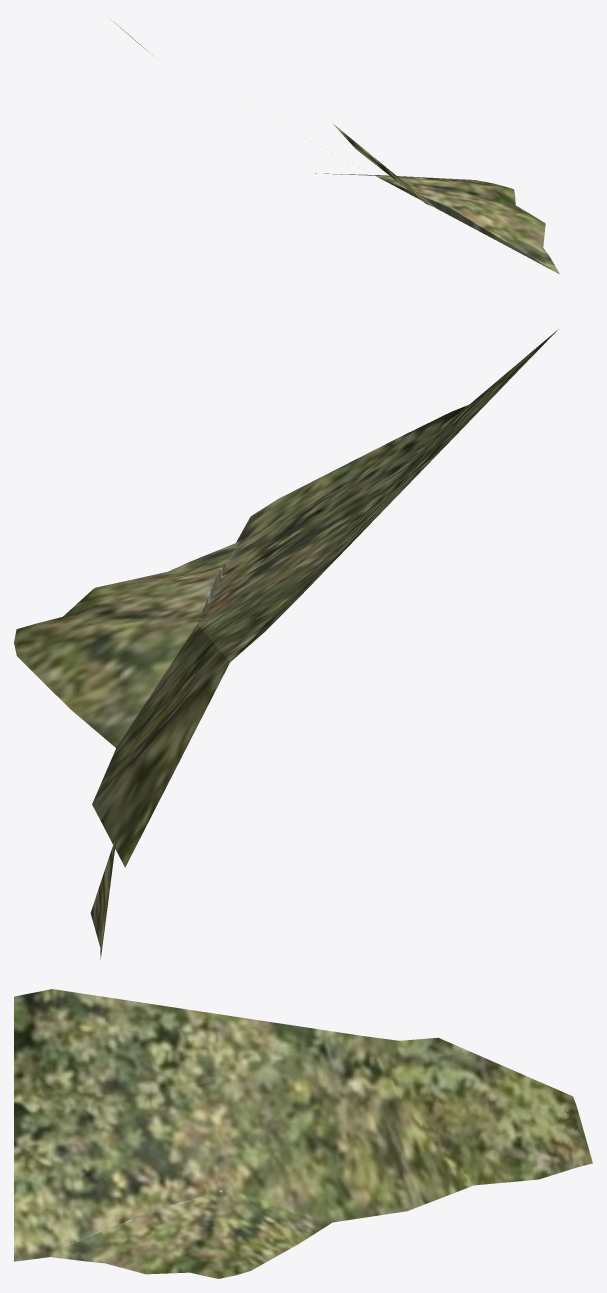
3 renders of one model, top to bottom at view 1: azimuth 30°, elevation 25°; view 2: azimuth 150°, elevation 25°; view 3: azimuth 270°, elevation 25°, orthographic. The views are drawn at different scales.
Bounding box in the file's own units: 1.31 × 0.9205 × 2.77.
Materials: 1 (1 with a texture image).
